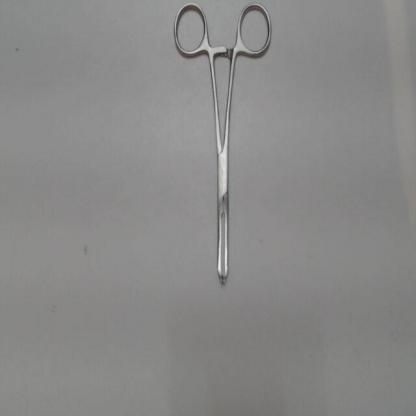Allis Tissue Forceps: (168, 1, 276, 298)
